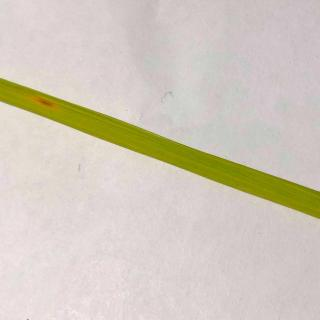bercak-Cokelat: (29, 95, 58, 113)
